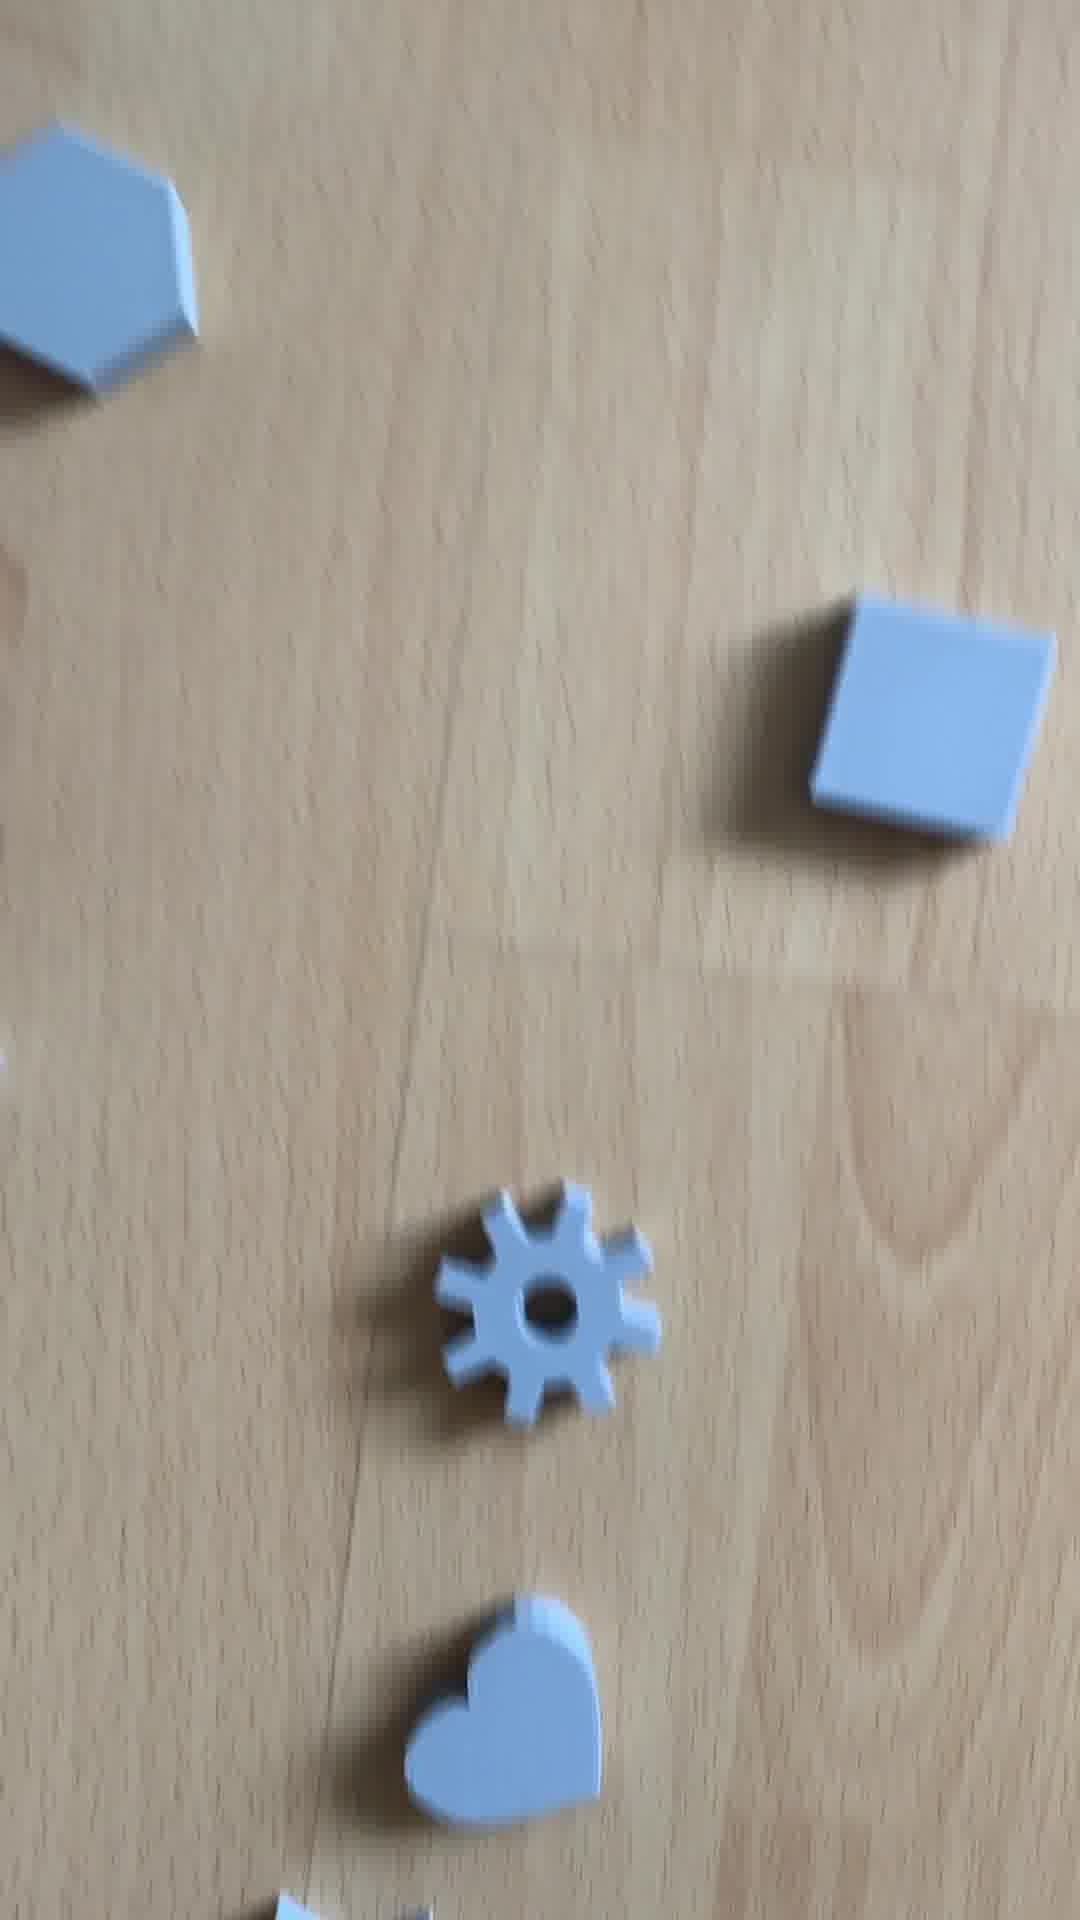Gray gear: (443, 1182, 676, 1425)
Gray heart: (413, 1604, 589, 1840)
Gray hexagon: (1, 138, 222, 392)
Gray square: (823, 579, 1044, 872)
